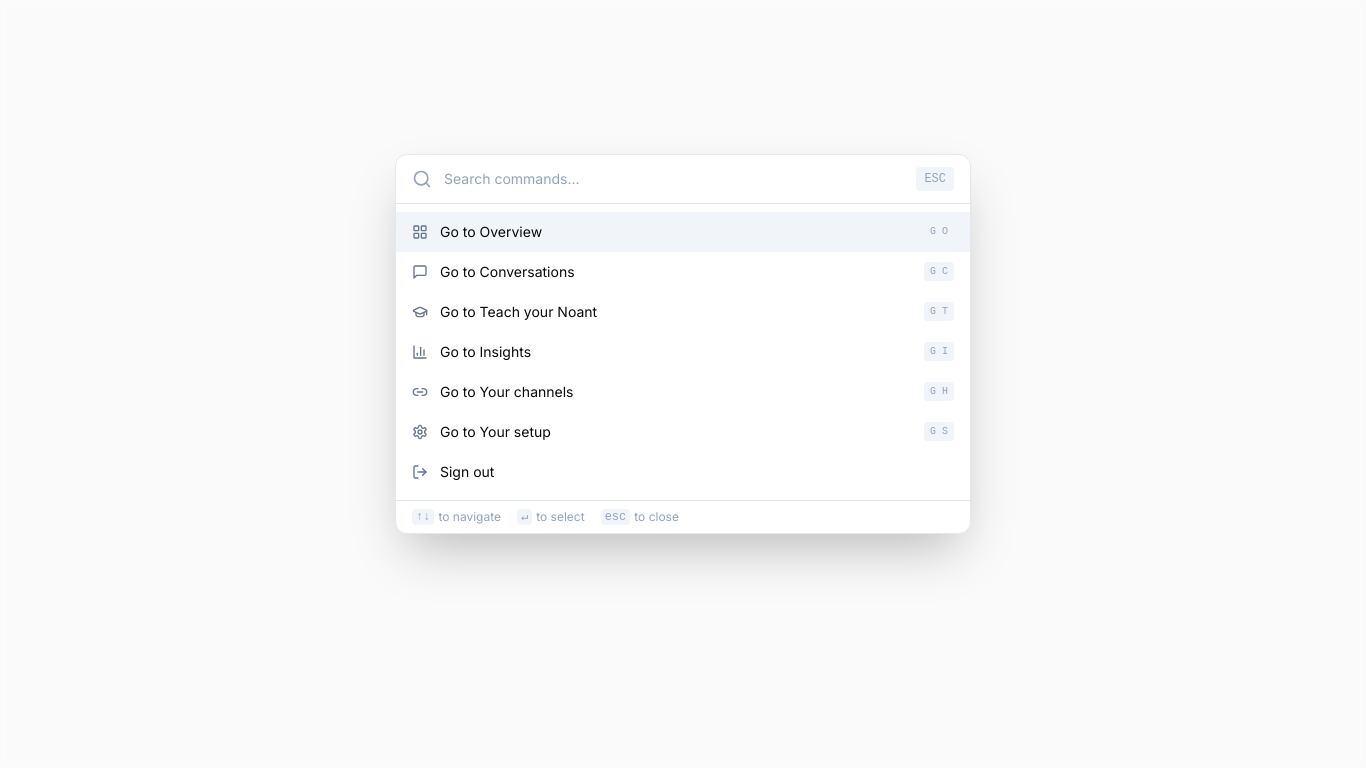
CommandPalette › filters commands by search
Type "conversation" into the dropdown at (674, 179), box [444, 169, 904, 189]
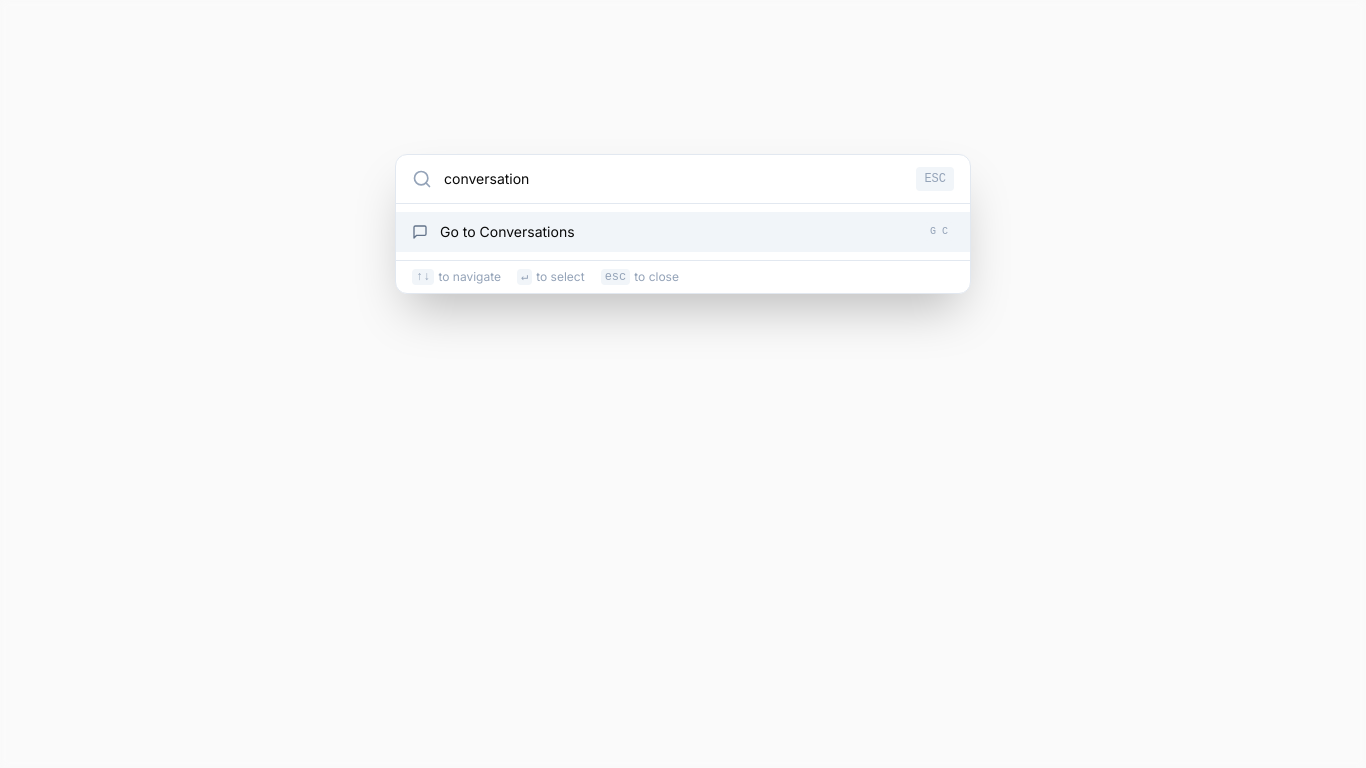
Expected: the text "Go to Conversations" is shown, [440, 223, 574, 240]
Expected: the option "Go to Insights" is gone
